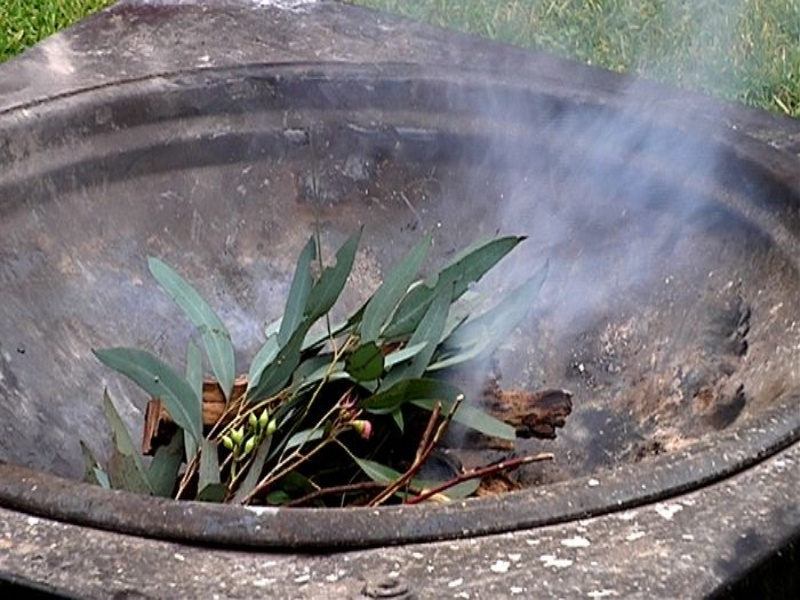smoke: (459, 63, 715, 358)
